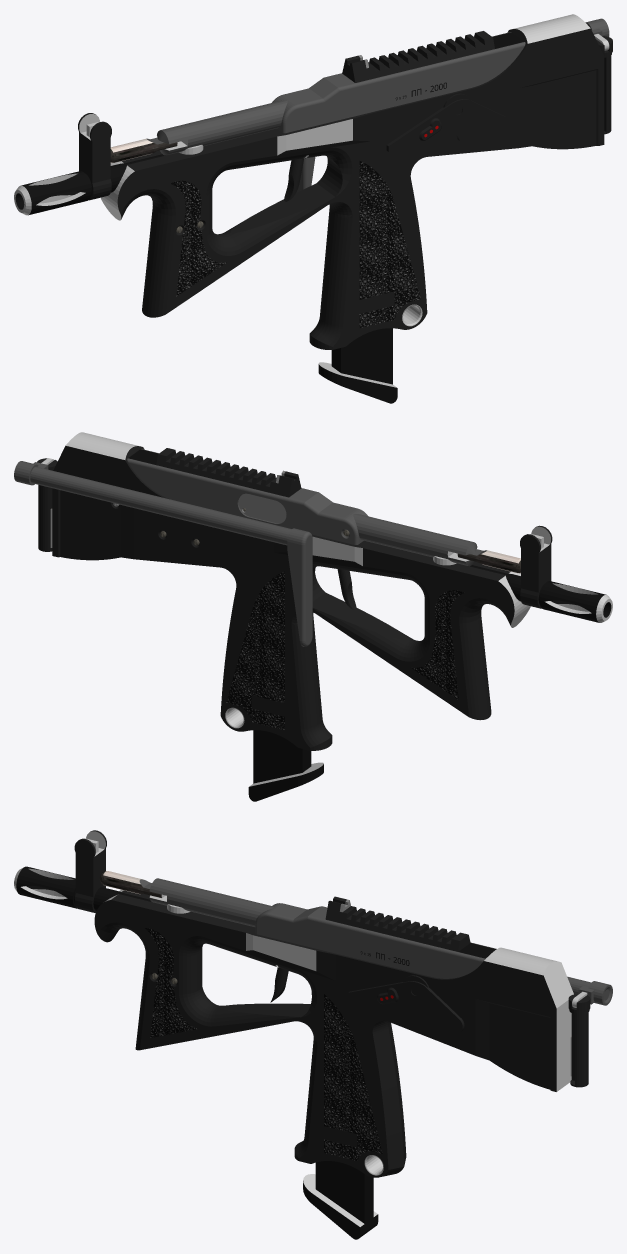
3 renders of one model, top to bottom at view 1: azimuth 30°, elevation 25°; view 2: azimuth 150°, elevation 25°; view 3: azimuth 330°, elevation 25°, orthographic. The views are drawn at different scales.
Visible parts, largest first — view 1: Mesh1_Model; view 2: Mesh1_Model; view 3: Mesh1_Model.
Part boxes in pixels (x1=…): Mesh1_Model: x1=14, y1=14, x2=612, y2=403; Mesh1_Model: x1=14, y1=432, x2=612, y2=801; Mesh1_Model: x1=14, y1=830, x2=612, y2=1239.
Size of the model in its own units: 1.92 by 1.06 by 0.1971.
